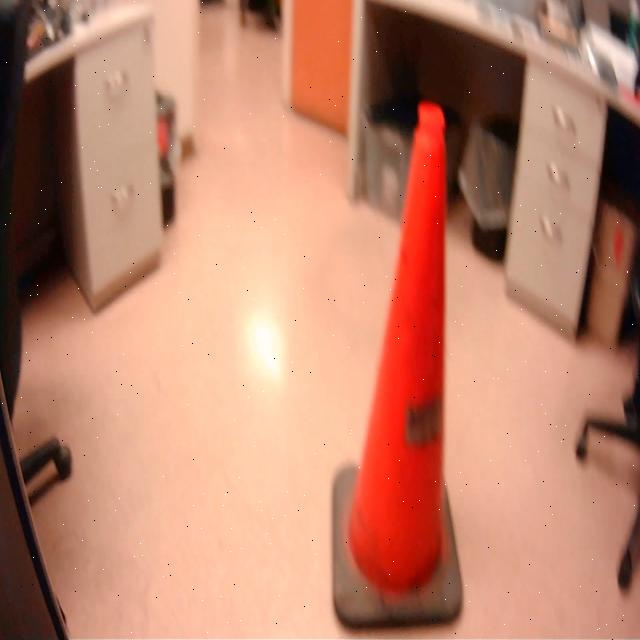traffic cone: (324, 93, 470, 637)
